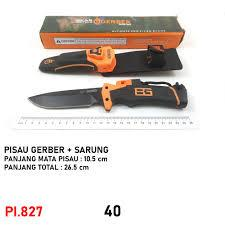knives: (23, 75, 196, 126)
